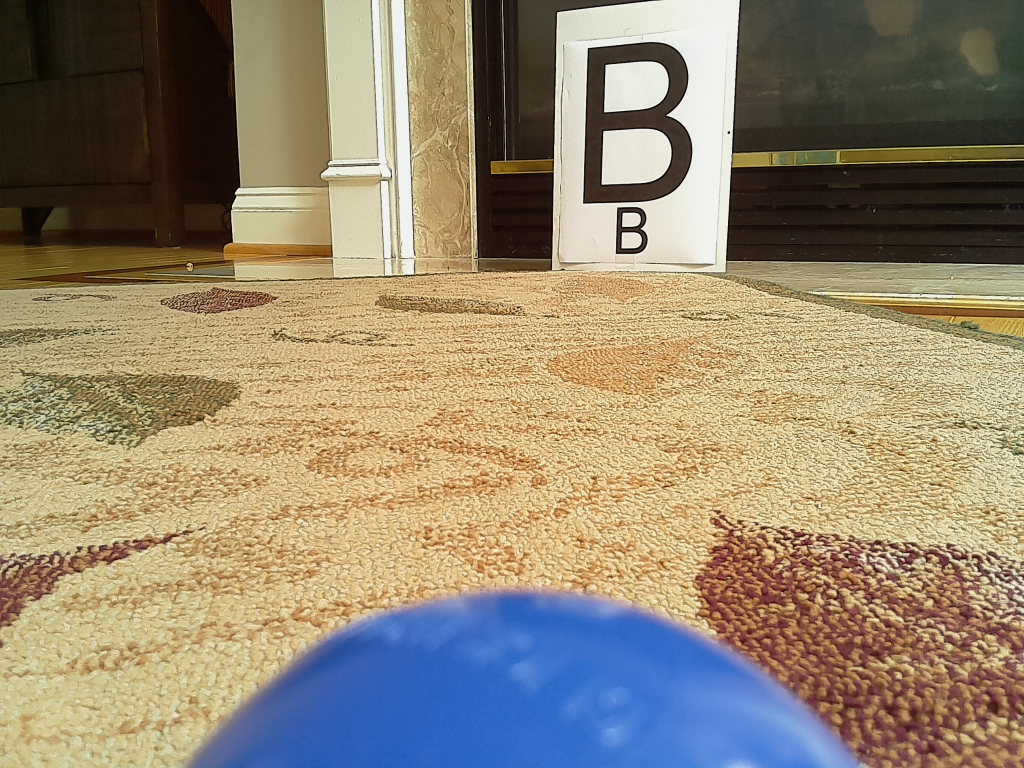letter: (582, 42, 693, 202)
